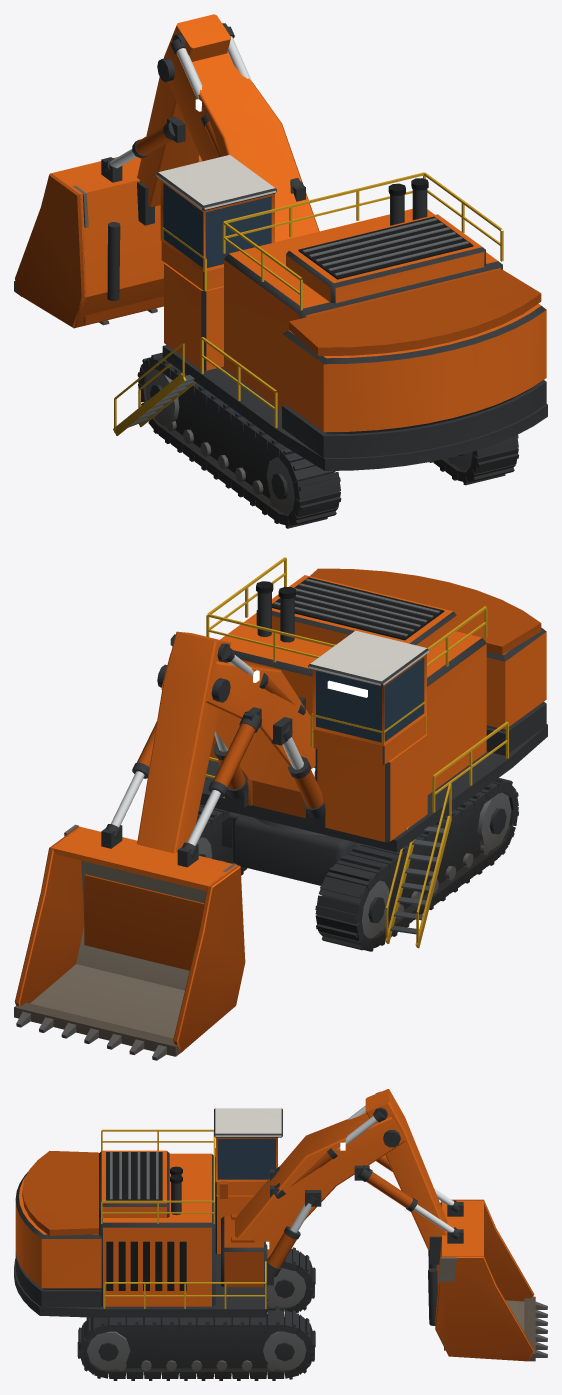
3 views of the same model, one above another, from view 1: azimuth 30°, elevation 25°; view 2: azimuth 150°, elevation 25°; view 3: azimuth 270°, elevation 25° (orthographic). The views are drawn at different scales.
Visible parts, largest first — view 1: upper, bucket, base, boom, stick, bucket_cyl_L, arm_cyl_L; view 2: upper, bucket, base, stick, boom, bucket_cyl_L, boom_cyl_L, bucket_cyl_R, arm_cyl_L, boom_cyl_R; view 3: upper, base, bucket, boom, stick, bucket_cyl_R, boom_cyl_R, arm_cyl_R.
Boxes of the visible parts, left/top/right/bottom form: upper: left=113, top=155, right=547, bottom=470; bucket: left=14, top=155, right=202, bottom=328; base: left=137, top=352, right=518, bottom=528; boom: left=157, top=44, right=319, bottom=242; stick: left=137, top=14, right=230, bottom=206; bucket_cyl_L: left=103, top=118, right=183, bottom=172; arm_cyl_L: left=170, top=39, right=221, bottom=157; upper: left=200, top=557, right=547, bottom=948; bucket: left=14, top=824, right=245, bottom=1060; base: left=196, top=778, right=518, bottom=951; stick: left=137, top=631, right=230, bottom=853; boom: left=157, top=653, right=315, bottom=791; bucket_cyl_L: left=182, top=711, right=261, bottom=857; boom_cyl_L: left=282, top=725, right=325, bottom=818; bucket_cyl_R: left=106, top=721, right=156, bottom=838; arm_cyl_L: left=222, top=645, right=305, bottom=715; boom_cyl_R: left=214, top=731, right=248, bottom=798; upper: left=14, top=1108, right=282, bottom=1317; base: left=77, top=1247, right=315, bottom=1380; bucket: left=428, top=1199, right=547, bottom=1361; boom: left=235, top=1113, right=405, bottom=1259; stick: left=365, top=1089, right=447, bottom=1249; bucket_cyl_R: left=357, top=1165, right=459, bottom=1239; boom_cyl_R: left=267, top=1196, right=318, bottom=1277; arm_cyl_R: left=273, top=1110, right=384, bottom=1198.
Bounding box in the file's own units: 8.33 × 10.05 × 19.7.
